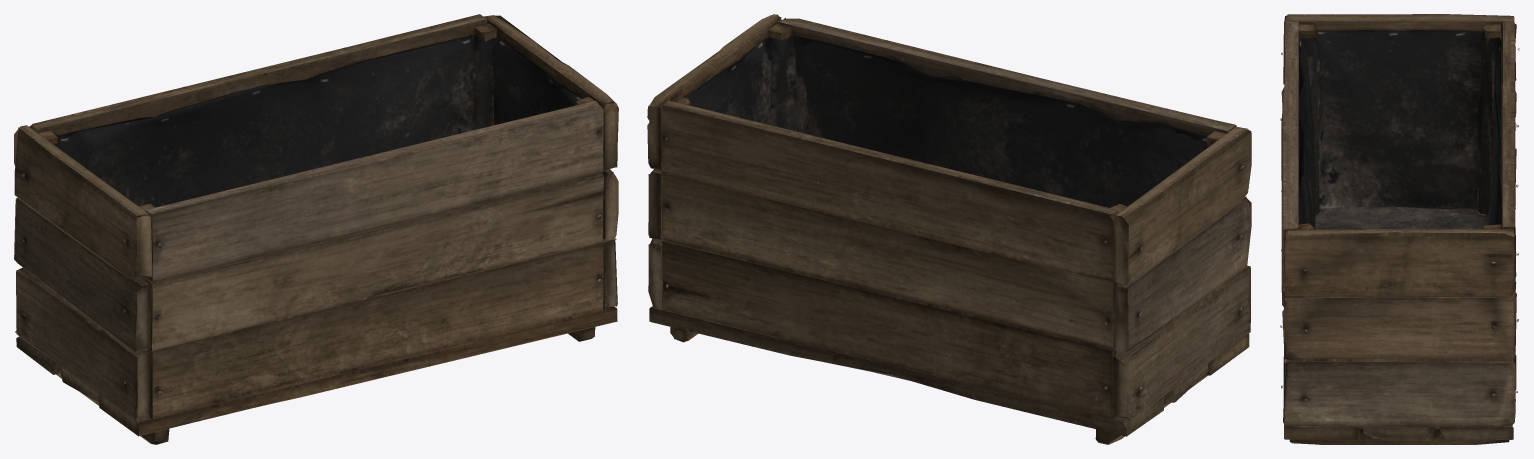
Rendered from ph_planter_box.fbx.
3 views of the same model, side by side, from view 1: azimuth 30°, elevation 25°; view 2: azimuth 150°, elevation 25°; view 3: azimuth 270°, elevation 25° (orthographic). The views are drawn at different scales.
Visible parts, largest first — view 1: ph_planter_box_LOD0; view 2: ph_planter_box_LOD0; view 3: ph_planter_box_LOD0.
Boxes of the visible parts, x1,y1,x2,y2 form: ph_planter_box_LOD0: [14, 14, 618, 444]; ph_planter_box_LOD0: [647, 14, 1251, 444]; ph_planter_box_LOD0: [1280, 14, 1519, 444].
Size of what is drawn, in the model's own units: 0.9176 by 0.4262 by 0.4178.
Materials: 1 (1 with a texture image).
